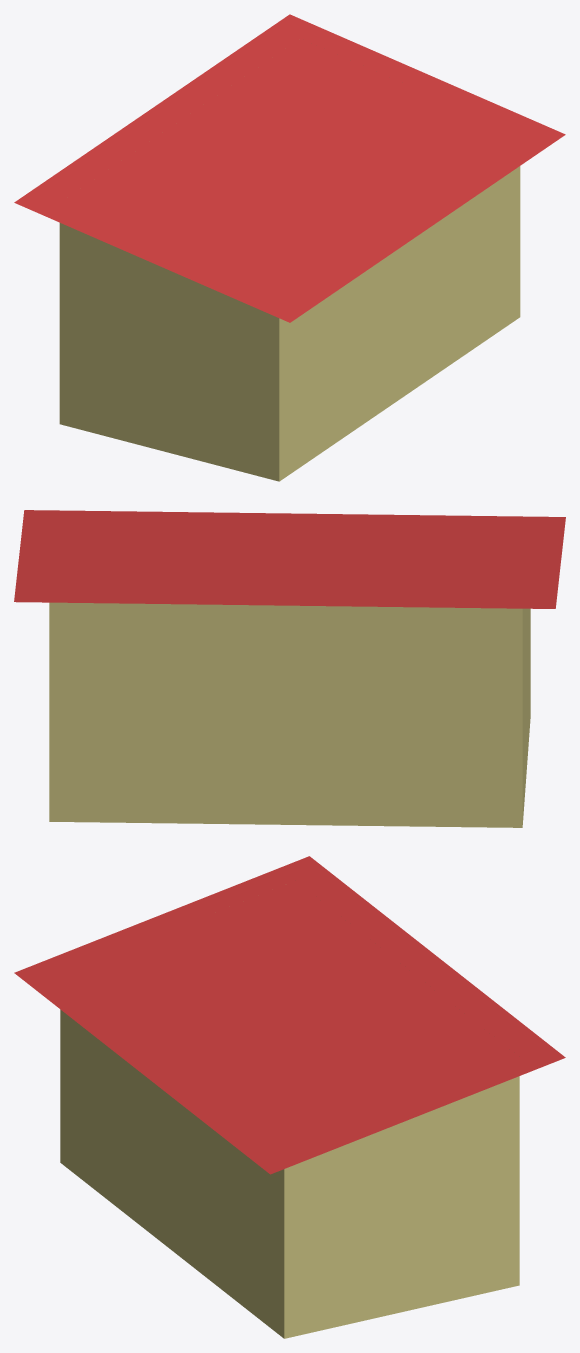
The picture shows the model from 3 angles, top to bottom: view 1: azimuth 30°, elevation 25°; view 2: azimuth 150°, elevation 25°; view 3: azimuth 270°, elevation 25°; orthographic projection. The views are drawn at different scales.
Bounding box in the file's own units: 18.6 × 16.15 × 7.54.
